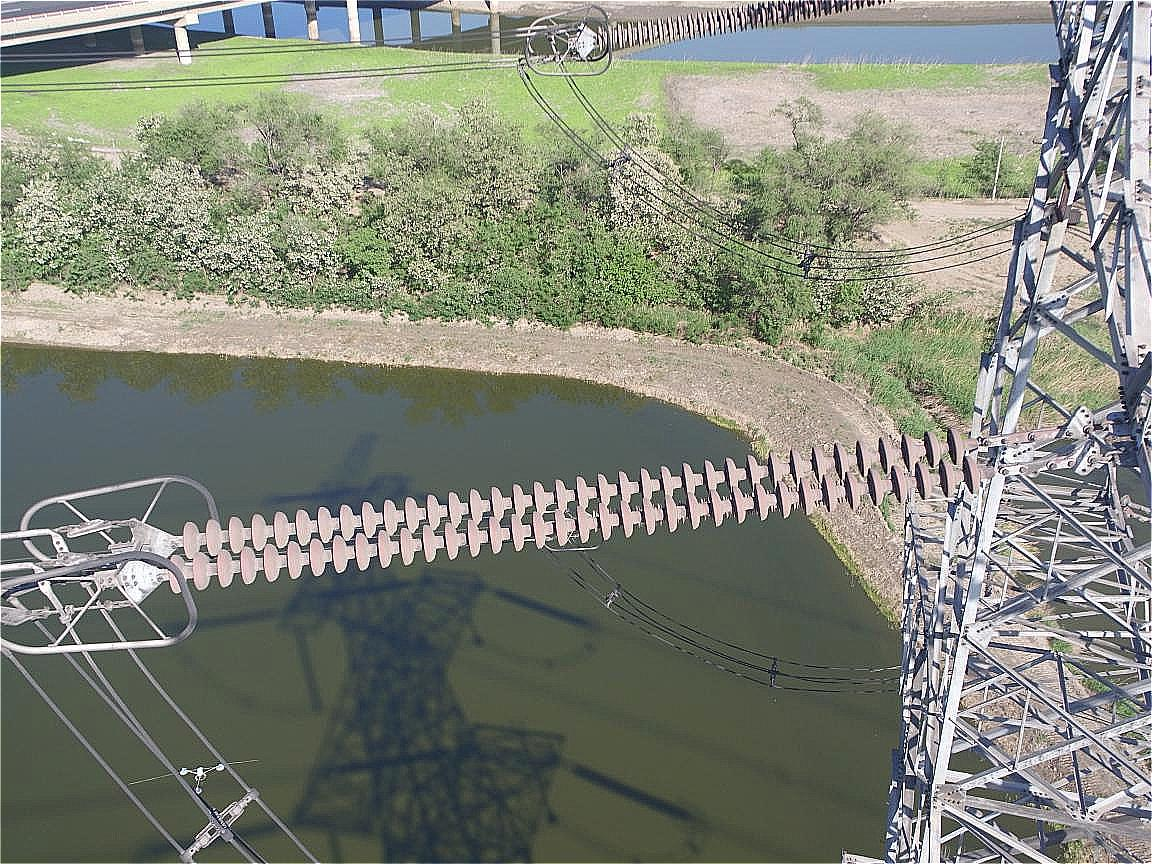insultor1: (107, 416, 1023, 611)
